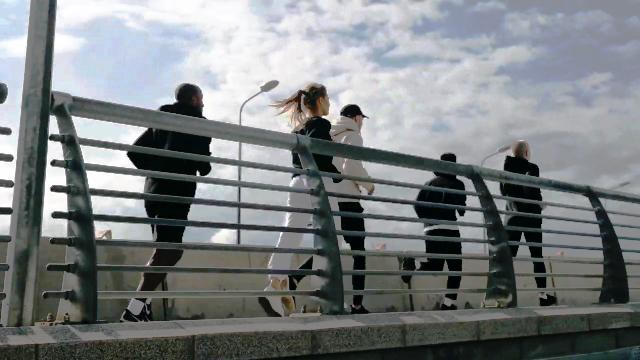berlari: (402, 152, 471, 316), (494, 140, 556, 314)
